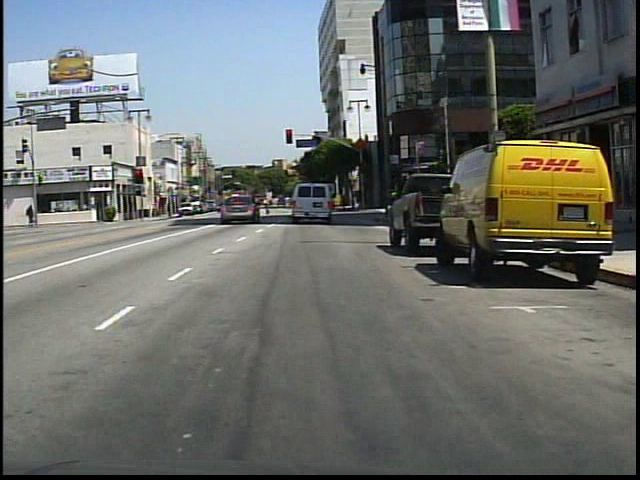person: (287, 191, 304, 222), (260, 193, 275, 219), (25, 202, 36, 226)
